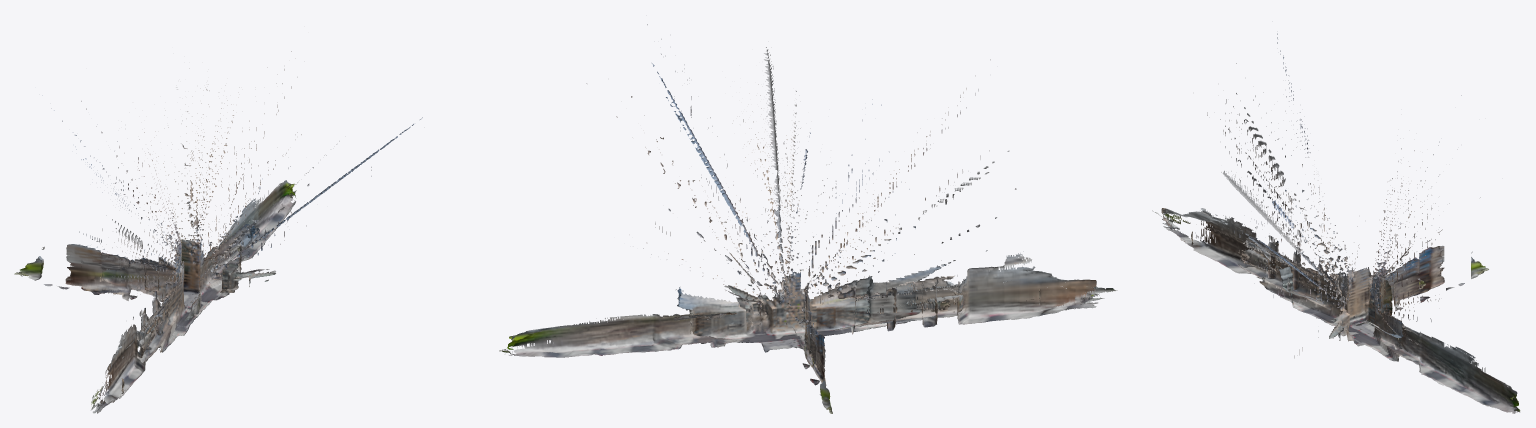
The model's file is office_collider.glb.
3 renders of one model, left to right at view 1: azimuth 30°, elevation 25°; view 2: azimuth 150°, elevation 25°; view 3: azimuth 270°, elevation 25°, orthographic. The views are drawn at different scales.
Parts seen in each view (by area): view 1: world; view 2: world; view 3: world.
Boxes of the visible parts, box(x1,y1,x2,y2) form: world: box(14, 51, 422, 413); world: box(499, 24, 1117, 413); world: box(1152, 33, 1520, 413).
Size of the model in its own units: 424 by 238 by 343.
